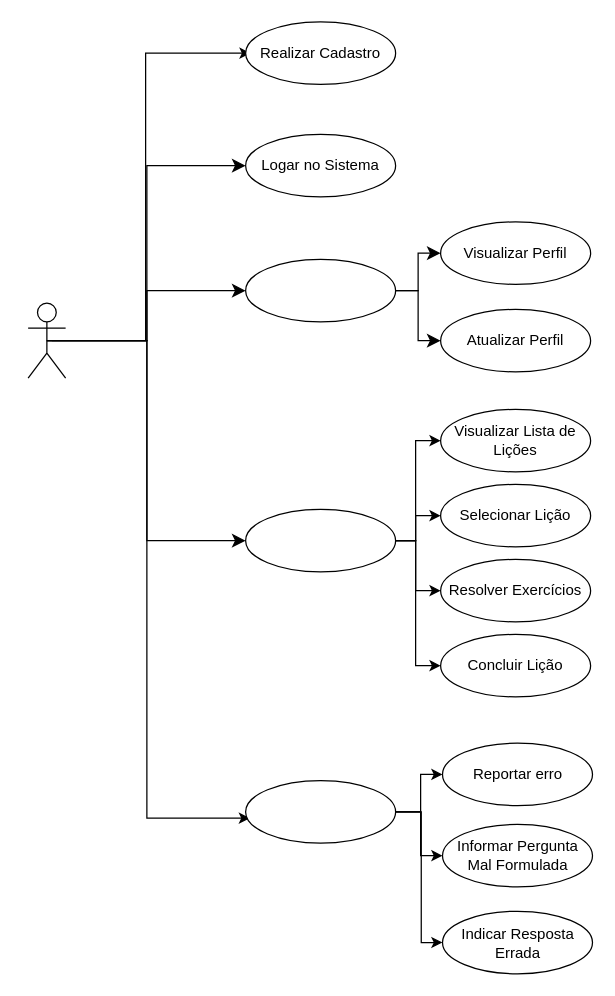
The diagram is 615 pixels wide and 996 high, and some of its shapes have lost their labels. The centre of each missing label's shape, as x and y in pixels:
"Dar Feedback" goes at point 320,811.
"Gerenciar Perfil" goes at point 320,290.
"Realizar Lições" goes at point 320,540.
"Usuário" goes at point 46,340.
